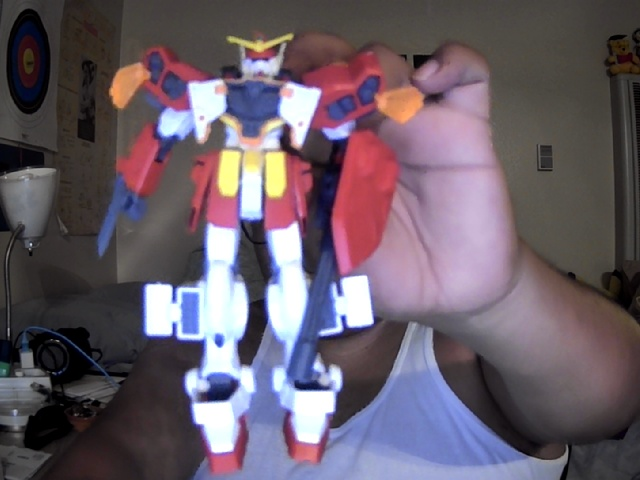Deatharms: (95, 28, 424, 480)
